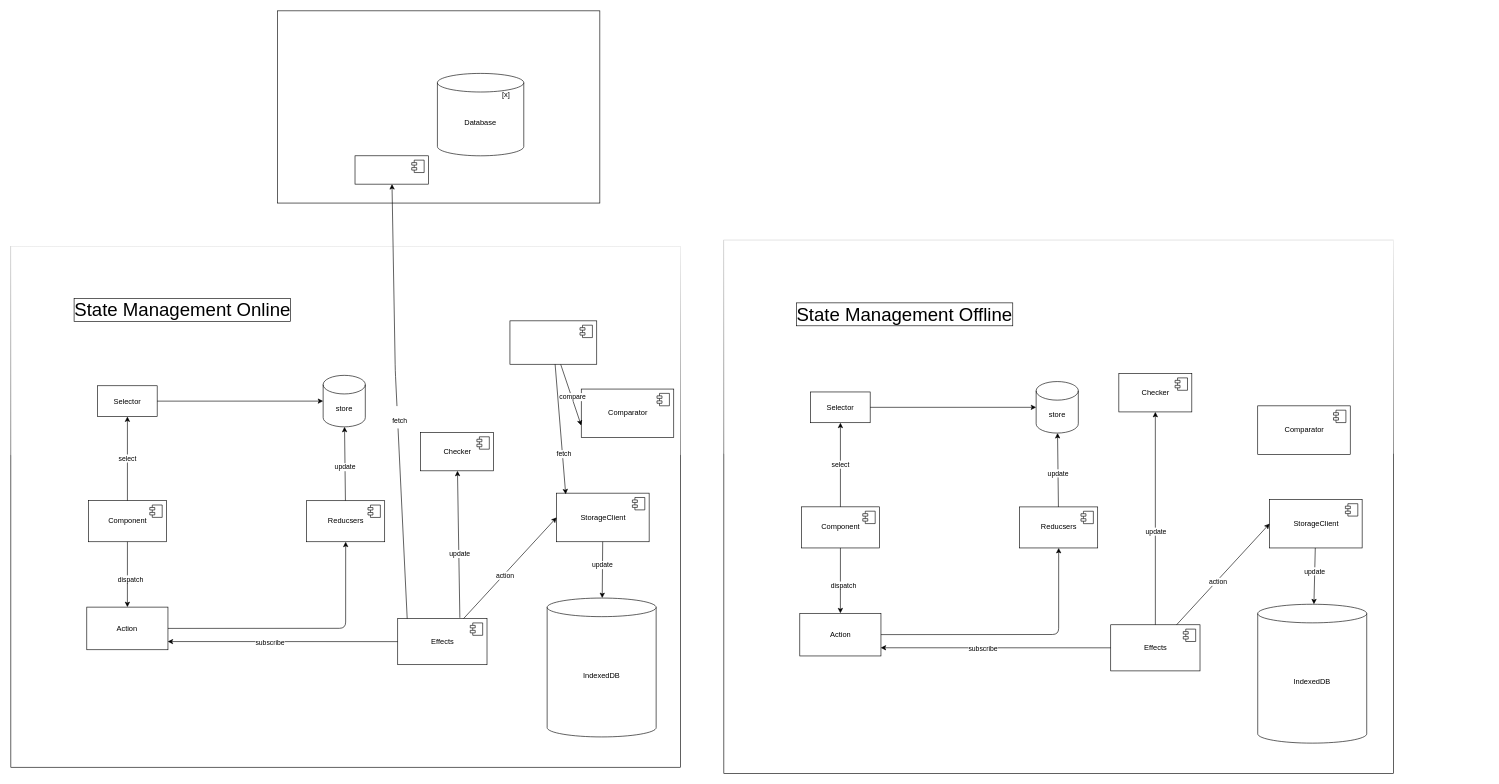
The diagram is 1499 pixels wide and 784 high, and some of its shapes have lost their labels. The shapes that lost their labels are listed below. From the top down, each one's centre as x and y in pixels, then its label:
[391,169]: Server
[553,342]: OfflineManager
